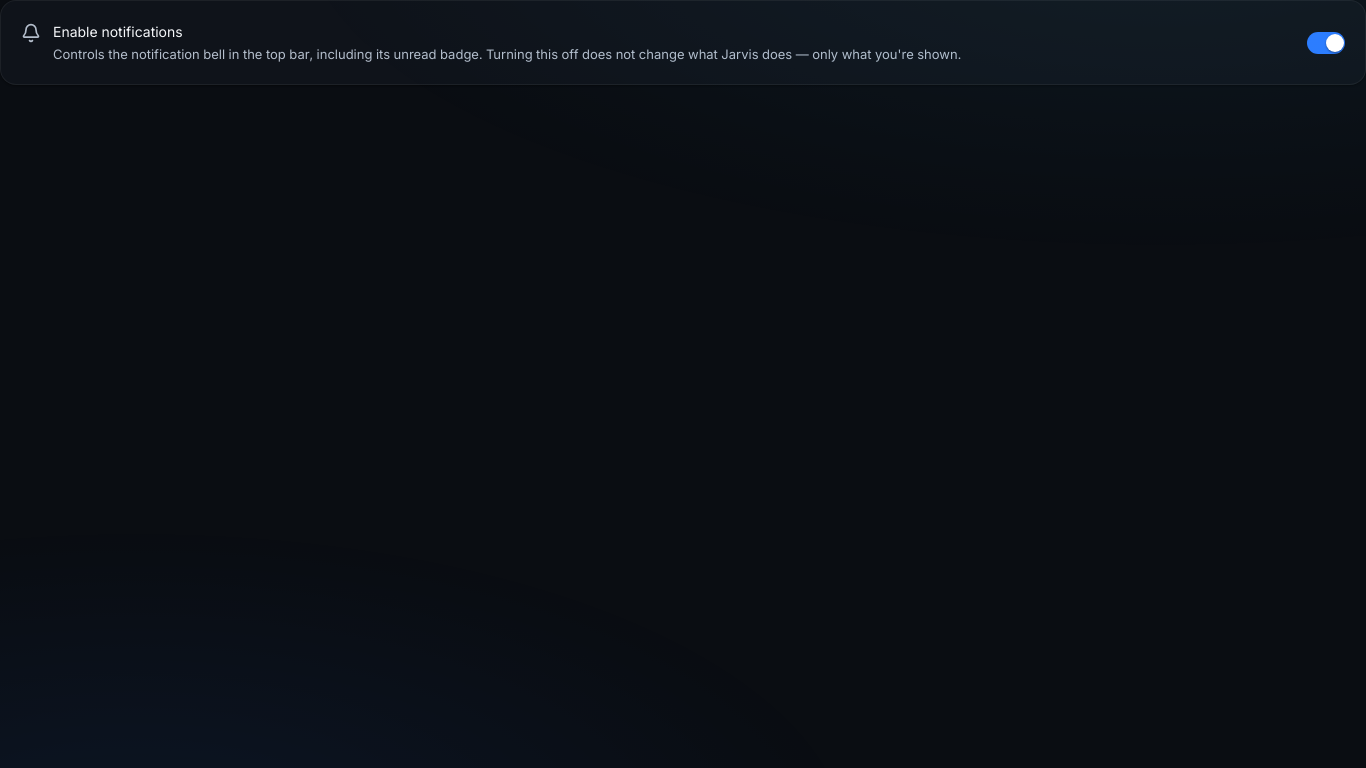
NotificationsSection async states › shows an error toast and keeps the control usable when the update rejects
Click the switch with test id "settings-notifications-toggle" at (1326, 43), box [1307,32,1345,54]
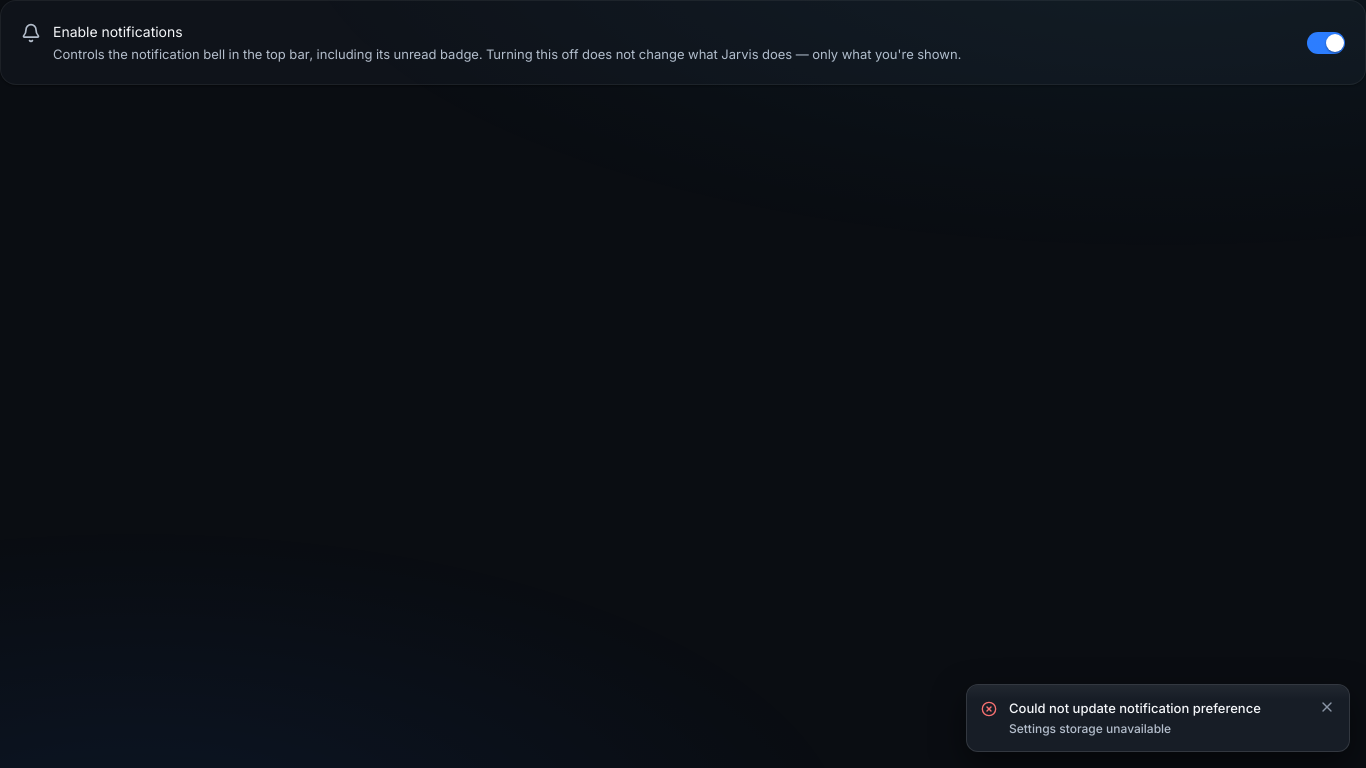
Expected: the text "Could not update notification preference" is shown, [1009,700,1261,716]
Expected: the text "Settings storage unavailable" is shown, [1009,721,1171,736]
